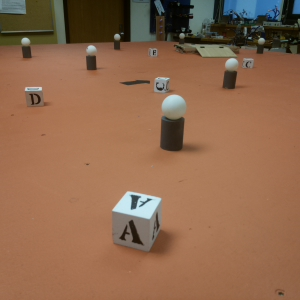blockA: (112, 191, 163, 252)
blockC: (154, 76, 170, 94), (243, 57, 256, 71)
blockD: (24, 85, 46, 107)
corner: (156, 14, 167, 40)
obstacle: (223, 57, 238, 89), (83, 43, 98, 70), (21, 37, 32, 59), (256, 36, 267, 54), (113, 33, 121, 50), (179, 29, 186, 45)
side: (173, 43, 185, 52)
slope: (197, 44, 235, 59)
start: (121, 77, 150, 88)
